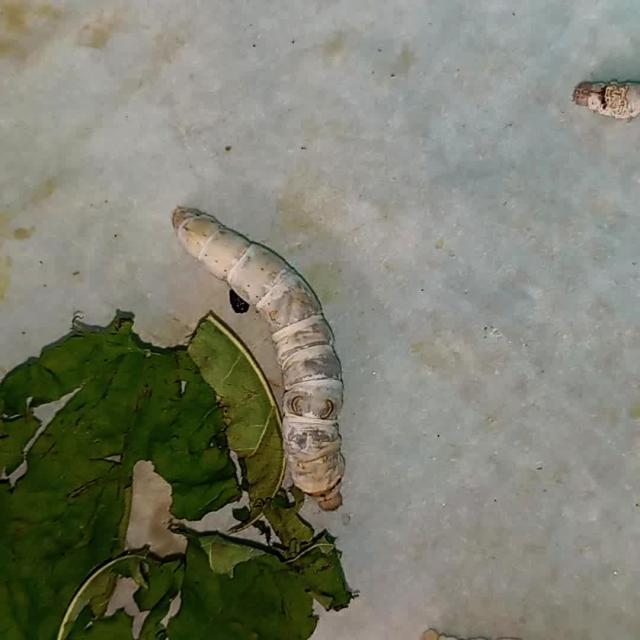Grasserie: (166, 197, 352, 514)
